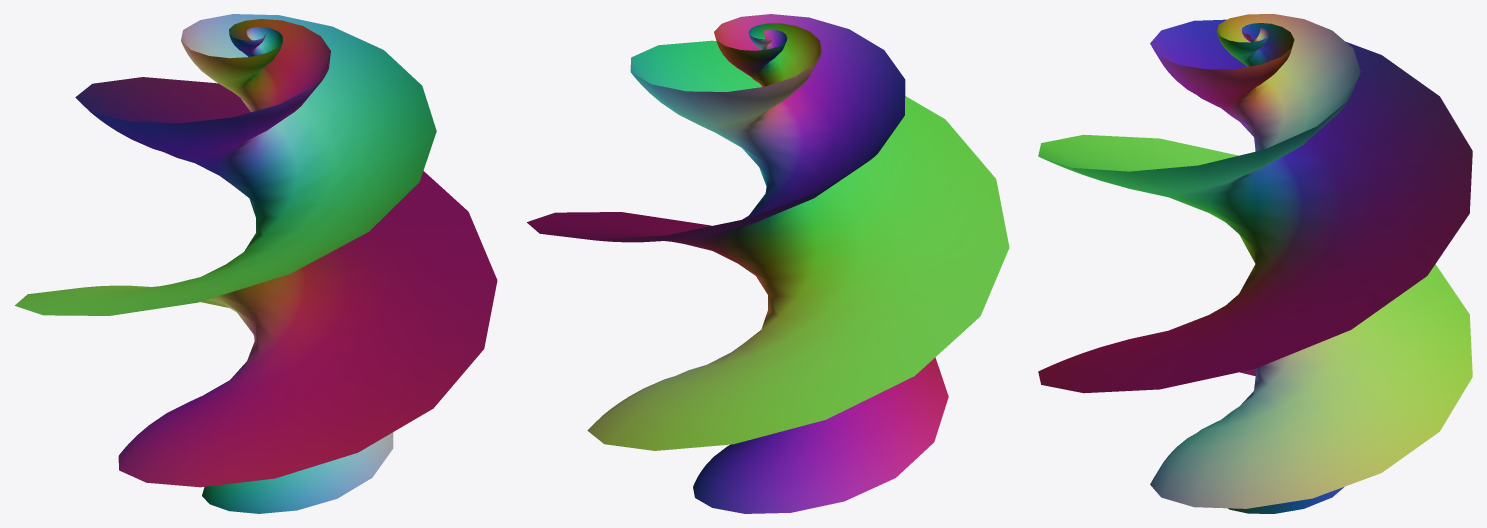
The model's file is zeometry-sculptural-spiral-ribbon_v1.glb.
The picture shows the model from 3 angles, left to right: view 1: azimuth 30°, elevation 25°; view 2: azimuth 150°, elevation 25°; view 3: azimuth 270°, elevation 25°; orthographic projection.
Visible parts, largest first — view 1: Spiral Ribbon; view 2: Spiral Ribbon; view 3: Spiral Ribbon.
Boxes of the visible parts, x1,y1,x2,y2 form: Spiral Ribbon: [15, 14, 497, 513]; Spiral Ribbon: [527, 14, 1009, 513]; Spiral Ribbon: [1038, 14, 1472, 513].
Size of the model in its own units: 0.483 by 0.5 by 0.4233.
